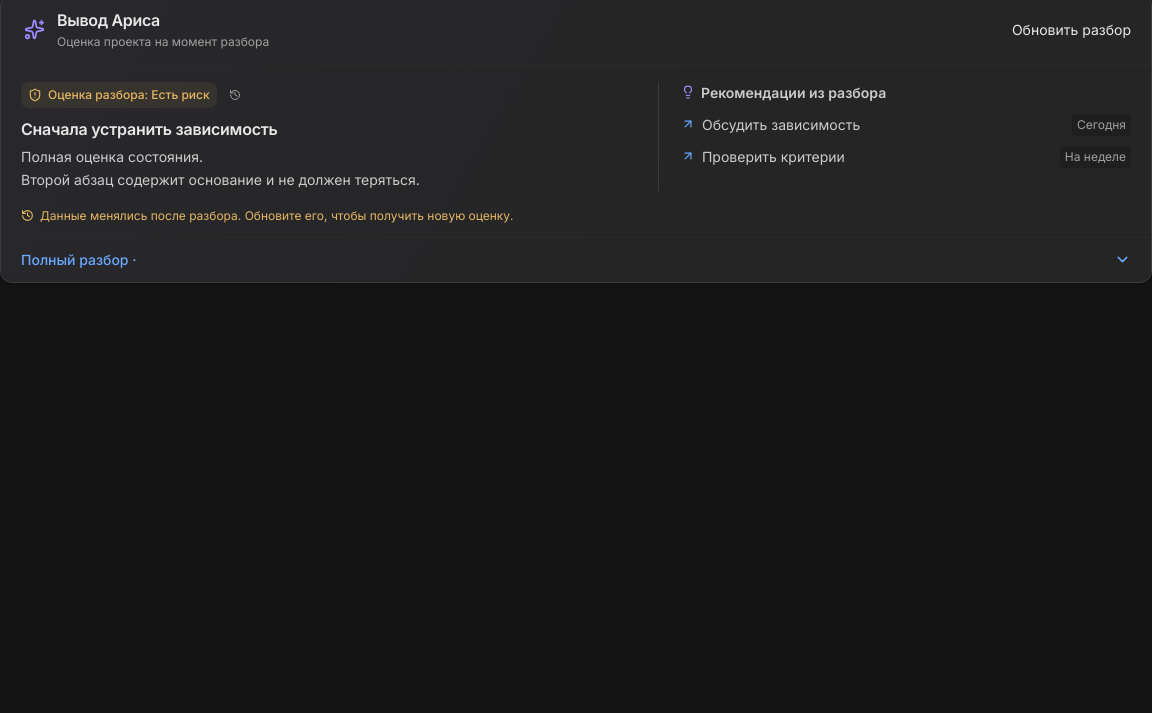
сохраняет автора, дату, полный охват источников и все ограничения контекста
The image size is (1152, 713).
Click the heading "Полный разбор ·".
click(79, 260)  # box [21,252,1131,268]
(page scrolled)
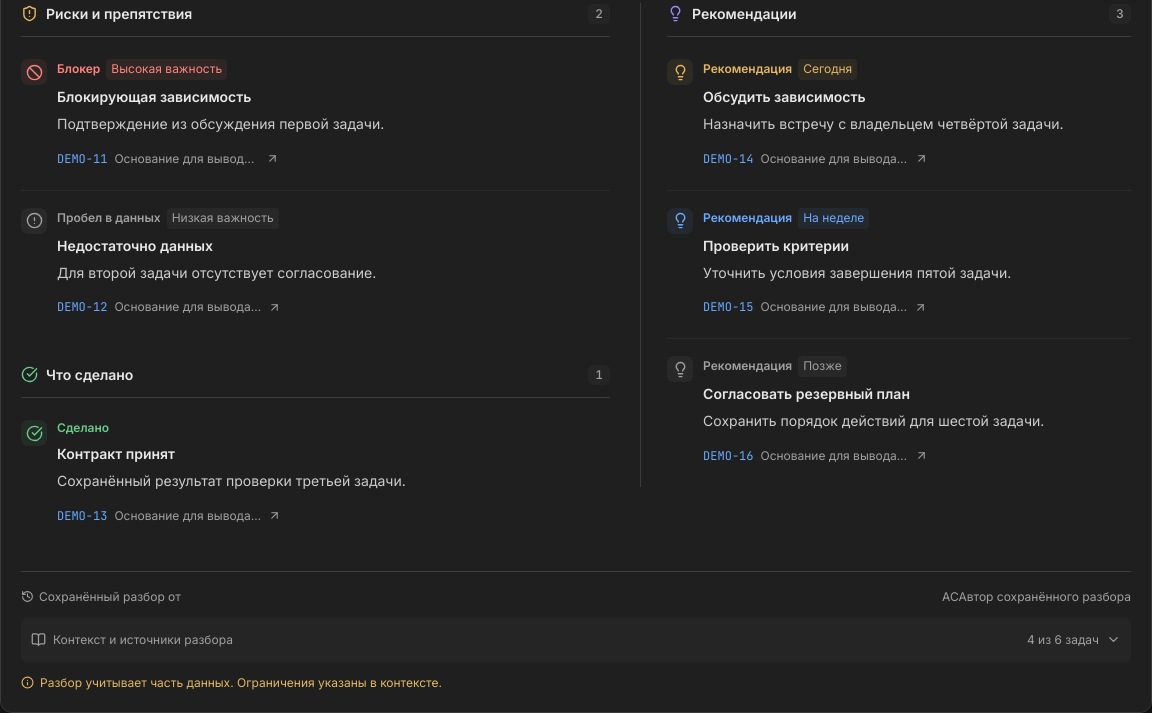
Expected: the text "Автор сохранённого разбора" is shown, [958,589,1131,604]
Click the text "Контекст и источники разбора".
click(143, 640)  # box [53,631,233,649]
(page scrolled)
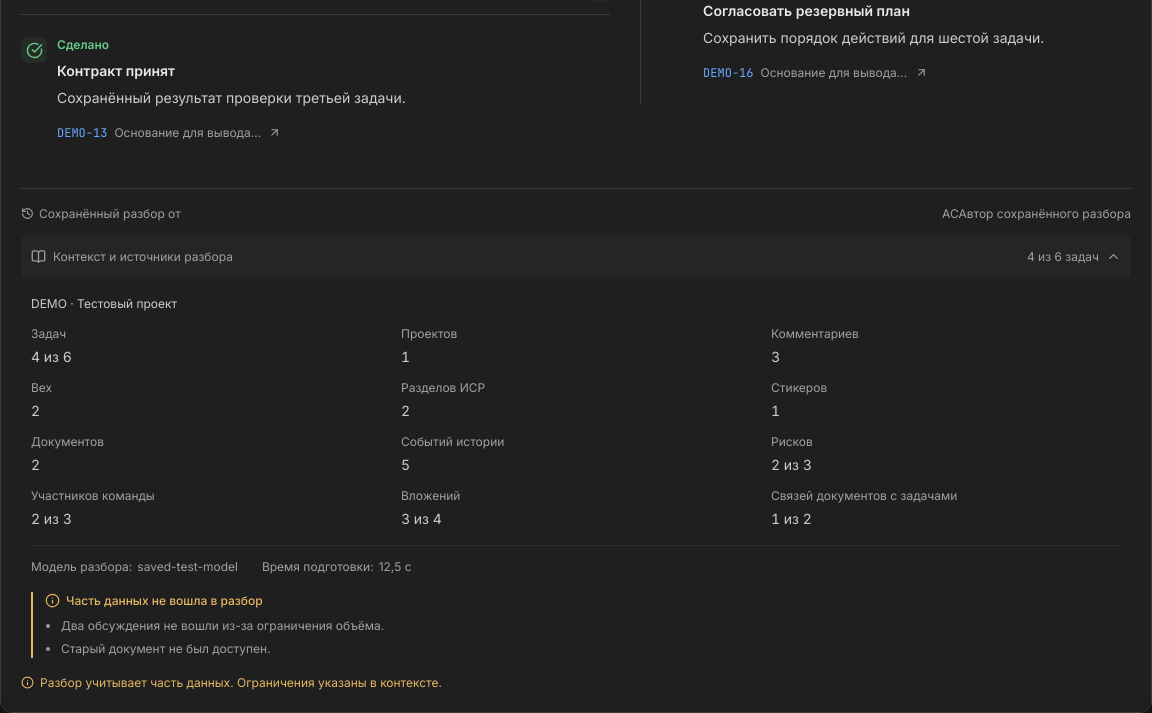
Expected: the text "DEMO · Тестовый проект" is shown, [31,296,177,311]
Expected: the text "Задач" is shown once, [31,326,66,341]
Expected: the text "3 из 4" is shown, [401,510,442,527]
